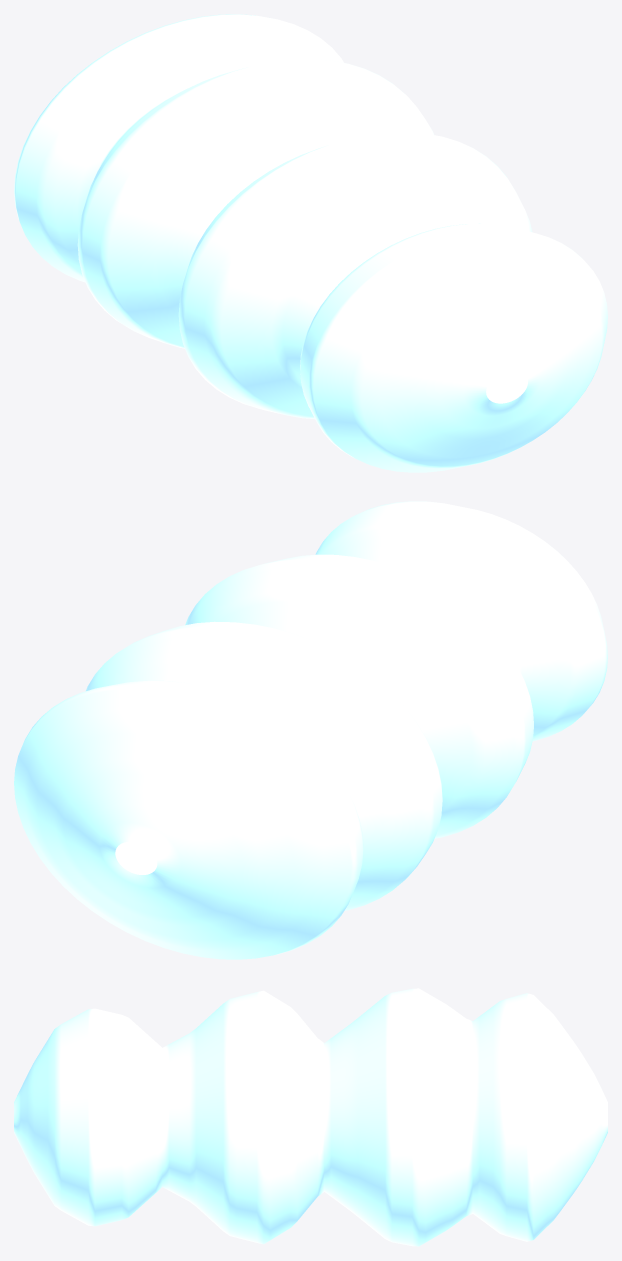
File: bubble.glb
3 views of the same model, one above another, from view 1: azimuth 30°, elevation 25°; view 2: azimuth 150°, elevation 25°; view 3: azimuth 270°, elevation 25° (orthographic). The views are drawn at different scales.
Parts seen in each view (by area): view 1: bubble_organic; view 2: bubble_organic; view 3: bubble_organic.
Boxes of the visible parts, box(x1,y1,x2,y2) form: bubble_organic: box(14, 14, 607, 472); bubble_organic: box(14, 501, 607, 959); bubble_organic: box(14, 988, 607, 1246).
Size of the model in its own units: 0.3025 by 0.2229 by 0.55.
